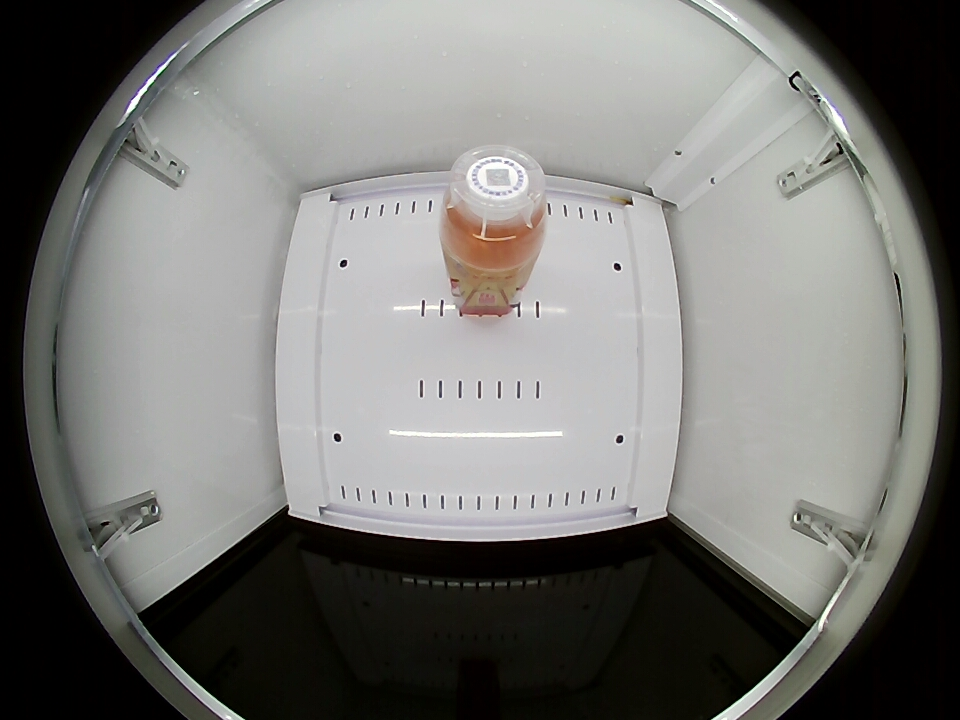dongpeng-b: (441, 145, 548, 263)
